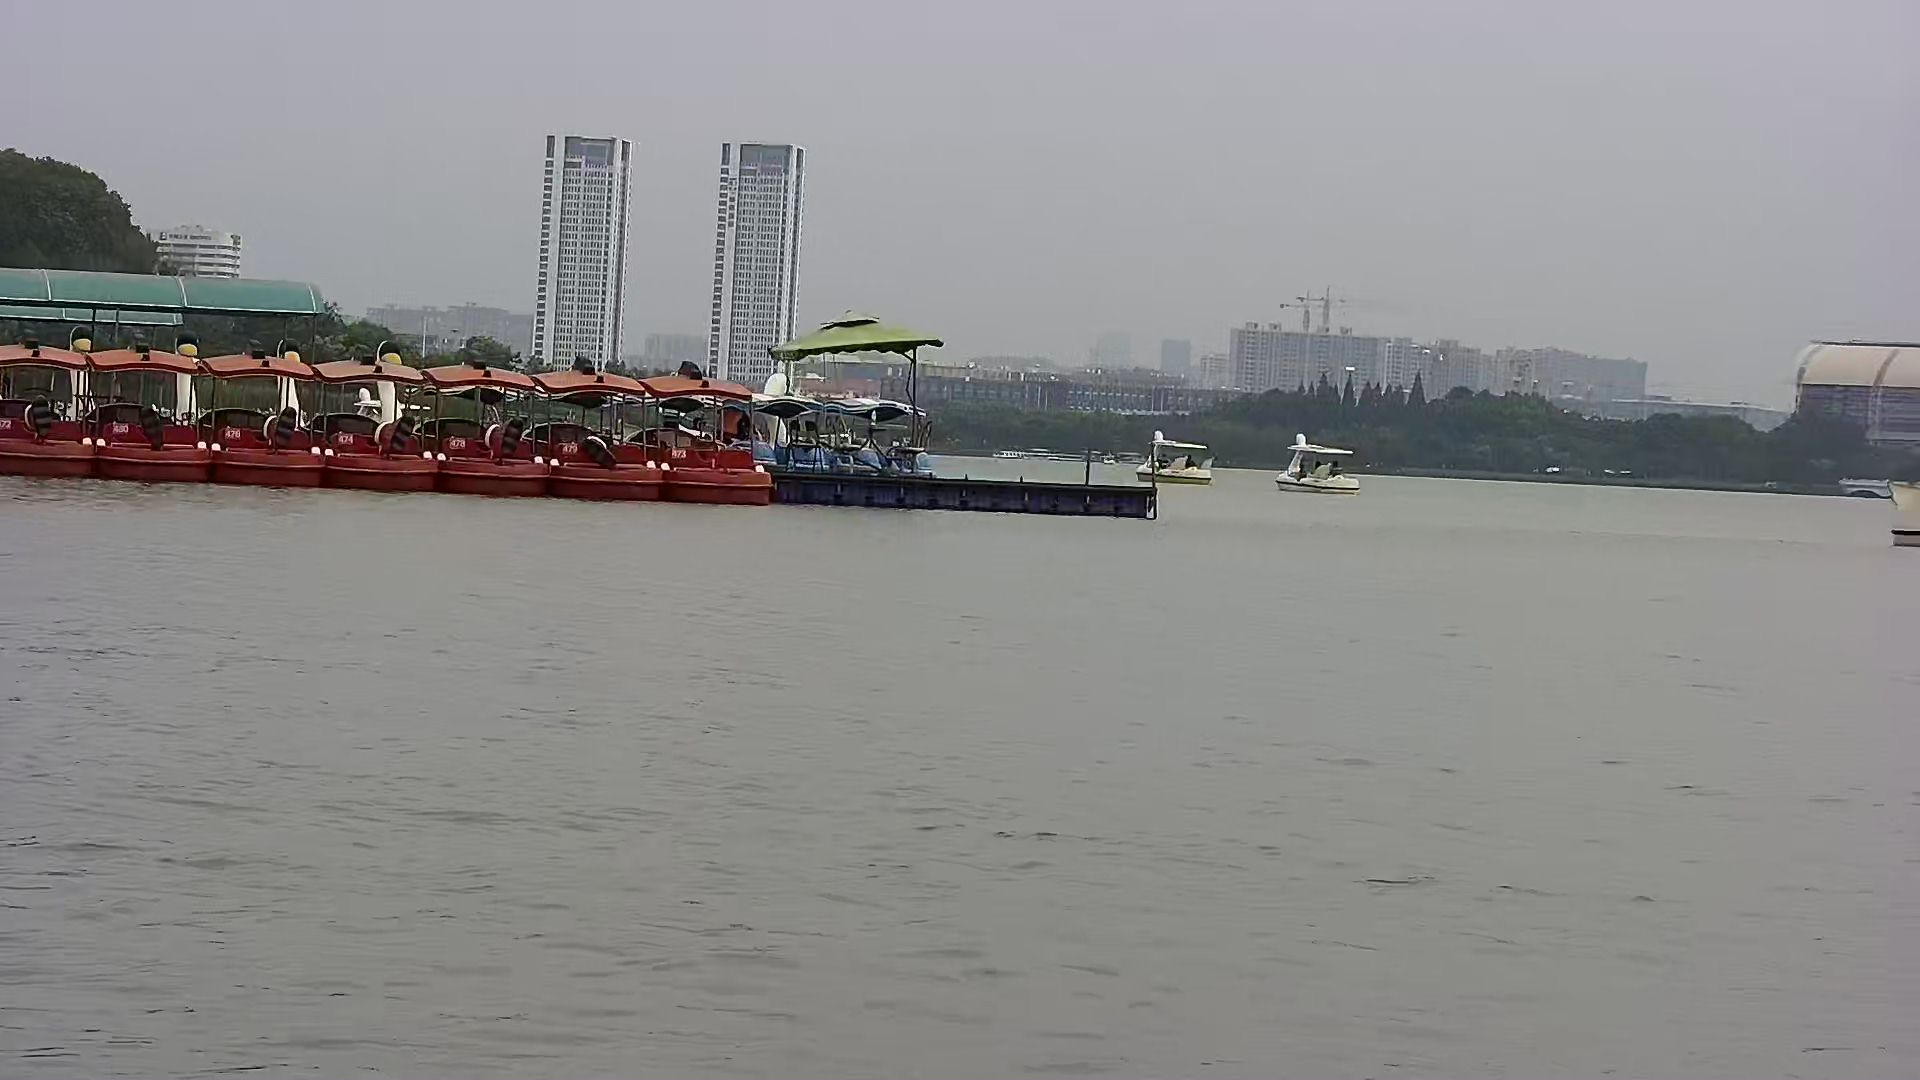boat: (1267, 434, 1371, 498), (1138, 429, 1217, 489)
harbor: (9, 264, 1158, 520)
